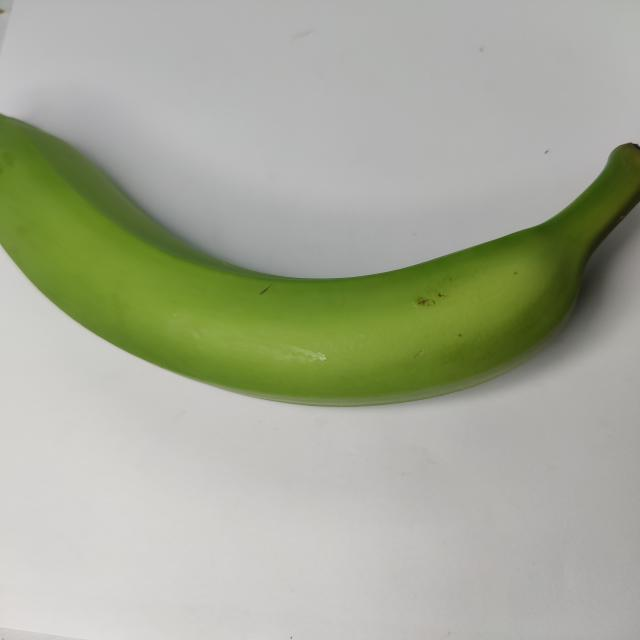raw: (0, 87, 640, 411)
